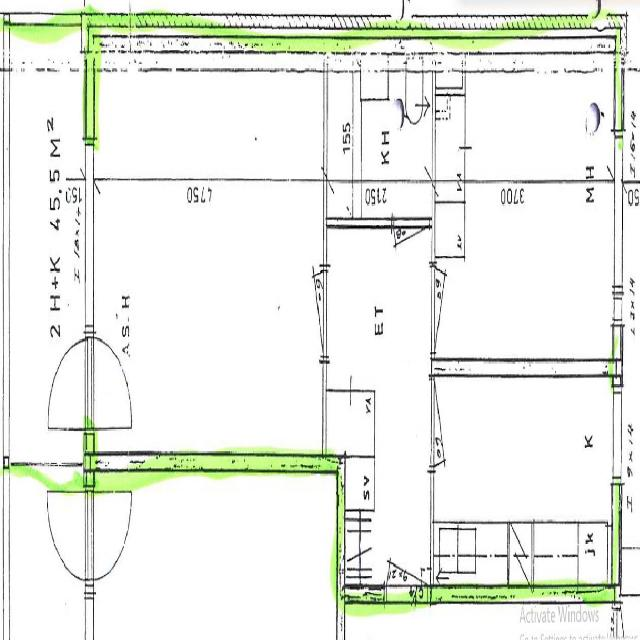door: (43, 339, 95, 429), (84, 339, 136, 429), (387, 495, 428, 604), (432, 266, 474, 352), (284, 271, 326, 356), (432, 380, 474, 465), (394, 218, 428, 304)
